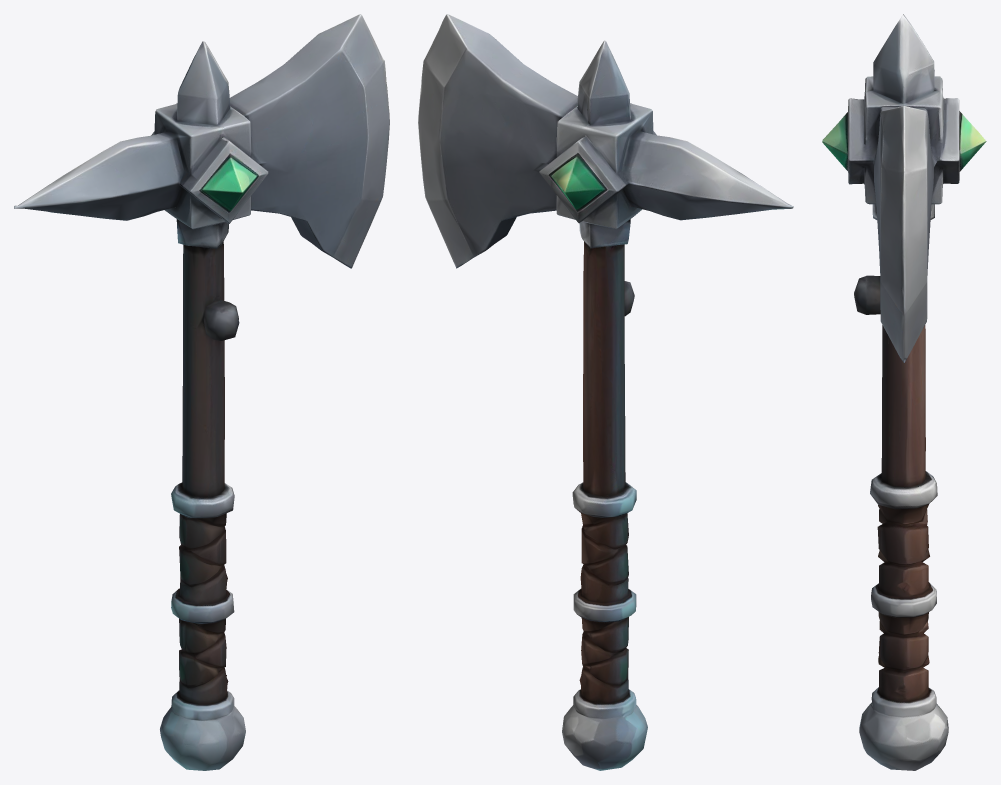
Rendered from w_steel--axe.glb.
The picture shows the model from 3 angles, left to right: view 1: azimuth 30°, elevation 25°; view 2: azimuth 150°, elevation 25°; view 3: azimuth 270°, elevation 25°; orthographic projection. The views are drawn at different scales.
Visible parts, largest first — view 1: Weapon; view 2: Weapon; view 3: Weapon.
Boxes of the visible parts, bbox=[...] form: Weapon: bbox=[14, 14, 389, 770]; Weapon: bbox=[418, 14, 793, 770]; Weapon: bbox=[822, 14, 986, 770].
Bounding box in the file's own units: 0.5316 × 0.9841 × 0.1942.
1 material, 1 textured.
